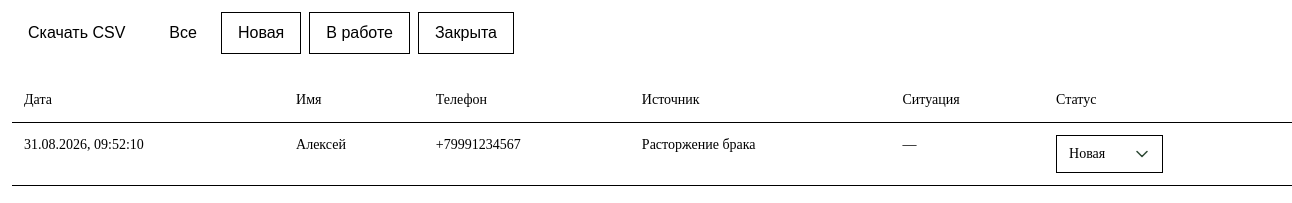
Test: LeadsPanel status filter › loads closed leads when the closed filter is pressed
Click the button "Закрыта" at (466, 33), box [418,12,514,54]
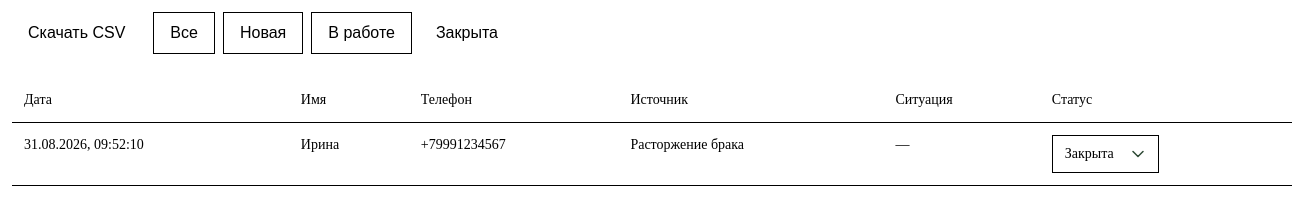
Expected: the text "Ирина" is shown, [289,122,409,186]
Expected: the text "Алексей" is gone
